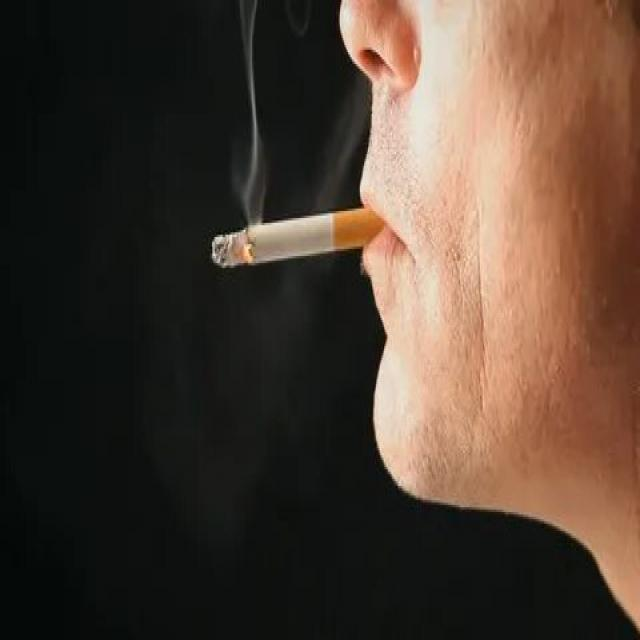smoke: (207, 196, 385, 280)
